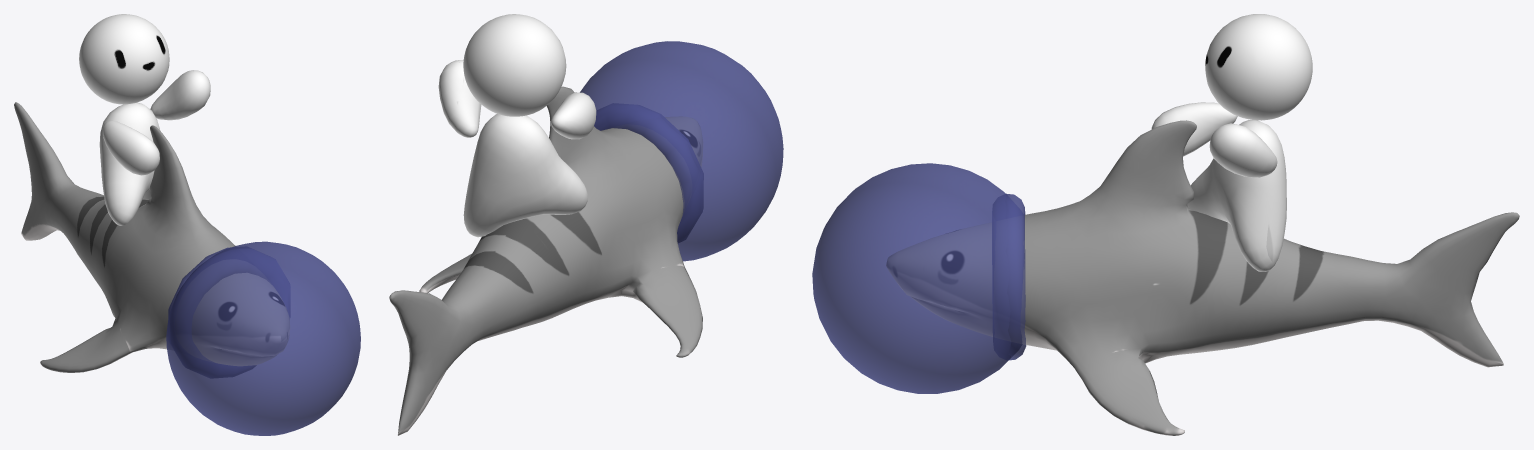
File: SharkyNaut.FBX
3 renders of one model, left to right at view 1: azimuth 30°, elevation 25°; view 2: azimuth 150°, elevation 25°; view 3: azimuth 270°, elevation 25°, orthographic. The views are drawn at different scales.
Parts seen in each view (by area): view 1: Sharkynaut; view 2: Sharkynaut; view 3: Sharkynaut.
Part boxes in pixels (<box>): Sharkynaut: <box>14,14,360,435</box>; Sharkynaut: <box>389,14,783,435</box>; Sharkynaut: <box>812,14,1519,435</box>.
Bounding box in the file's own units: 211 × 261 × 460.
